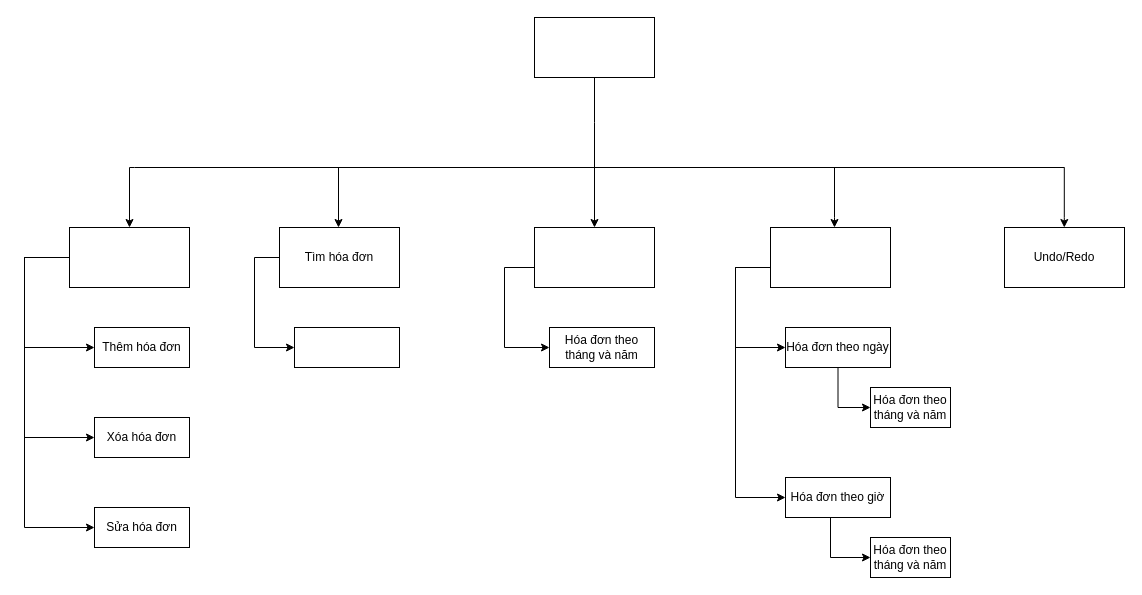
This 1142x595 diagram has some shape labels left out. Each missing label, with the centre of its shape:
"Phần mềm quản lý hóa đơn khách sạn" belongs at [594,47].
"Quản lý hóa đơn" belongs at [129,257].
"Tìm hóa đơn theo tên khách hàng" belongs at [347,347].
"Tính trung bình thành tiền trong 1 tháng" belongs at [594,257].
"Tính tổng số lượng hóa đơn theo từng loại trong một tháng" belongs at [830,257].
